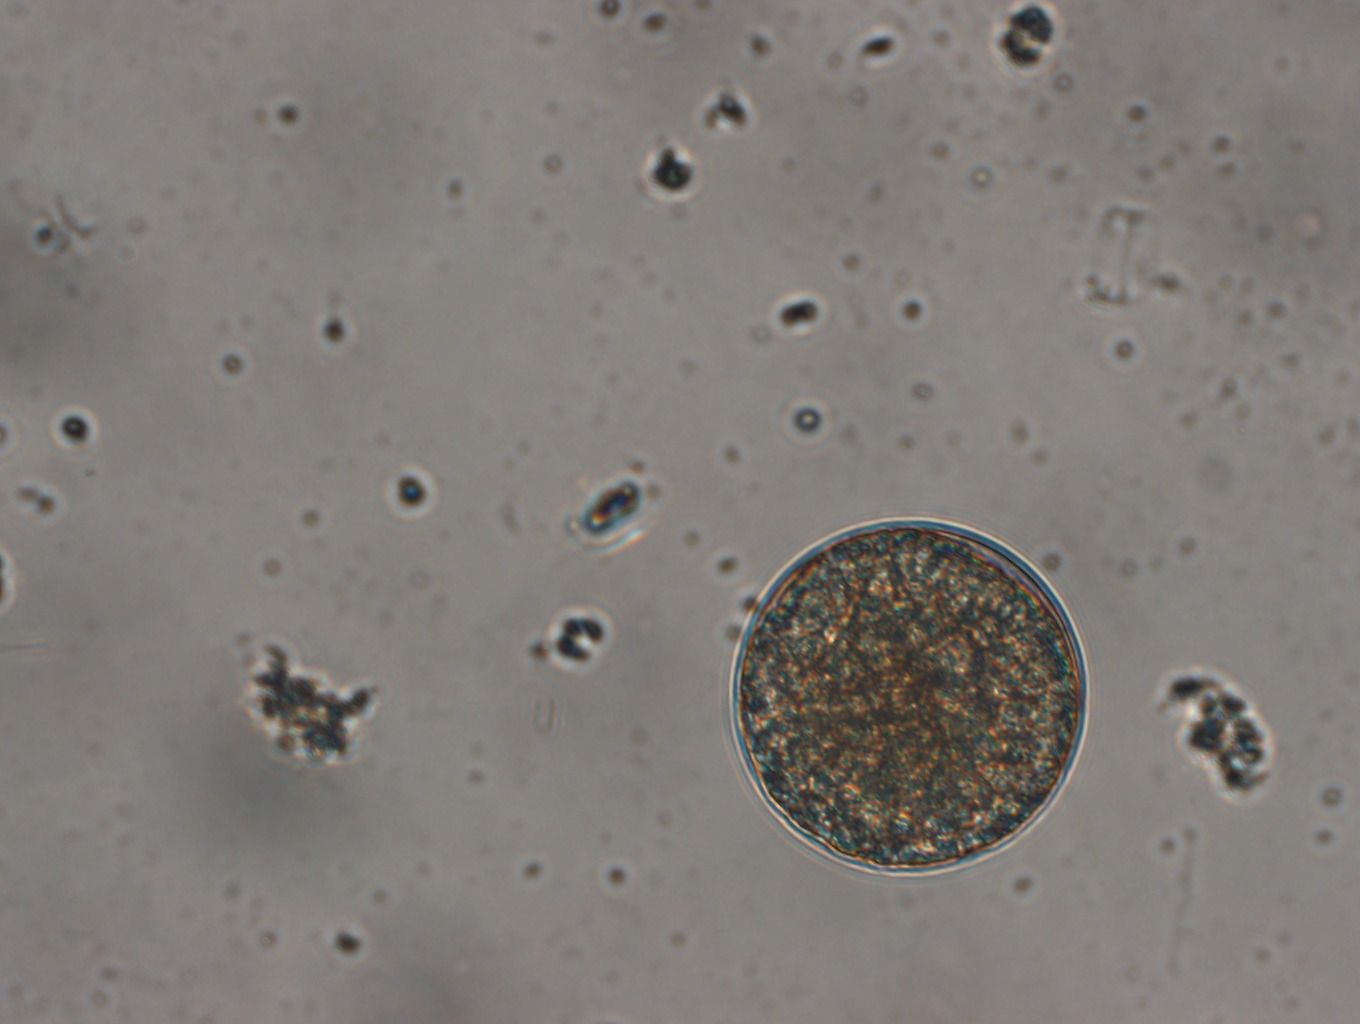coscinodiscus: (724, 516, 1091, 877)
